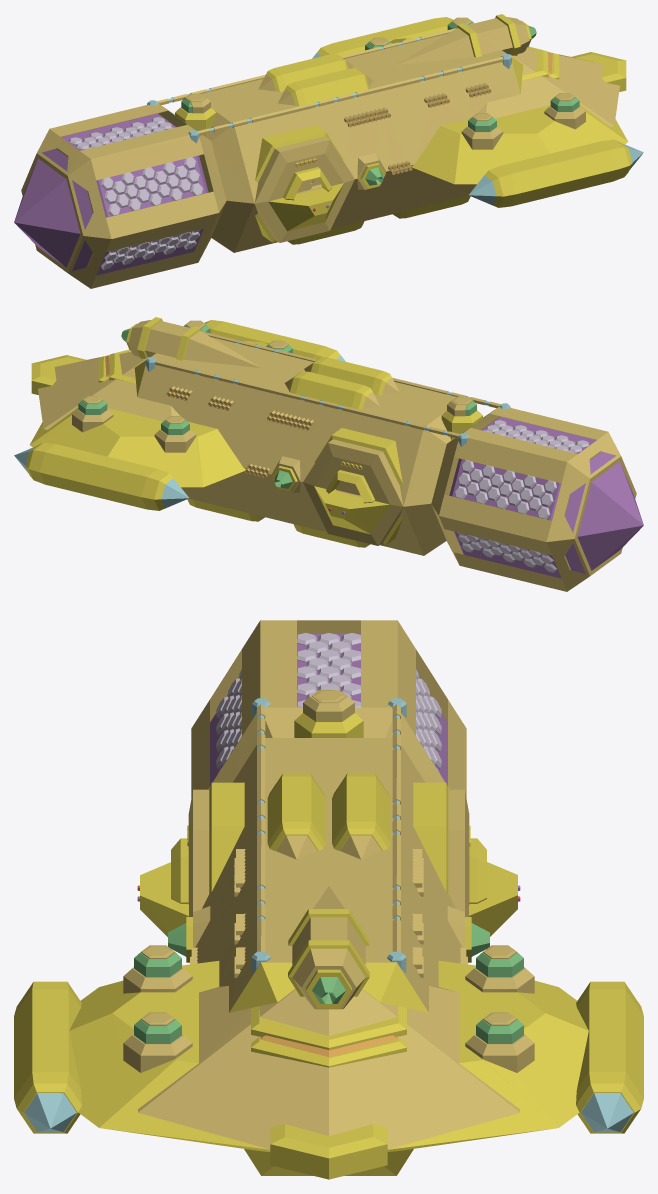
The model's file is vra-crystal.glb.
The picture shows the model from 3 angles, top to bottom: view 1: azimuth 30°, elevation 25°; view 2: azimuth 150°, elevation 25°; view 3: azimuth 270°, elevation 25°; orthographic projection. The views are drawn at different scales.
Visible parts, largest first — view 1: Crystal current hull - authored COLOR_0 regions; view 2: Crystal current hull - authored COLOR_0 regions; view 3: Crystal current hull - authored COLOR_0 regions.
Boxes of the visible parts, x1=… form: Crystal current hull - authored COLOR_0 regions: x1=14, y1=14, x2=643, y2=288; Crystal current hull - authored COLOR_0 regions: x1=14, y1=317, x2=643, y2=591; Crystal current hull - authored COLOR_0 regions: x1=14, y1=620, x2=643, y2=1179.
Bounding box in the file's own units: 7.19 × 1.81 × 3.86.
